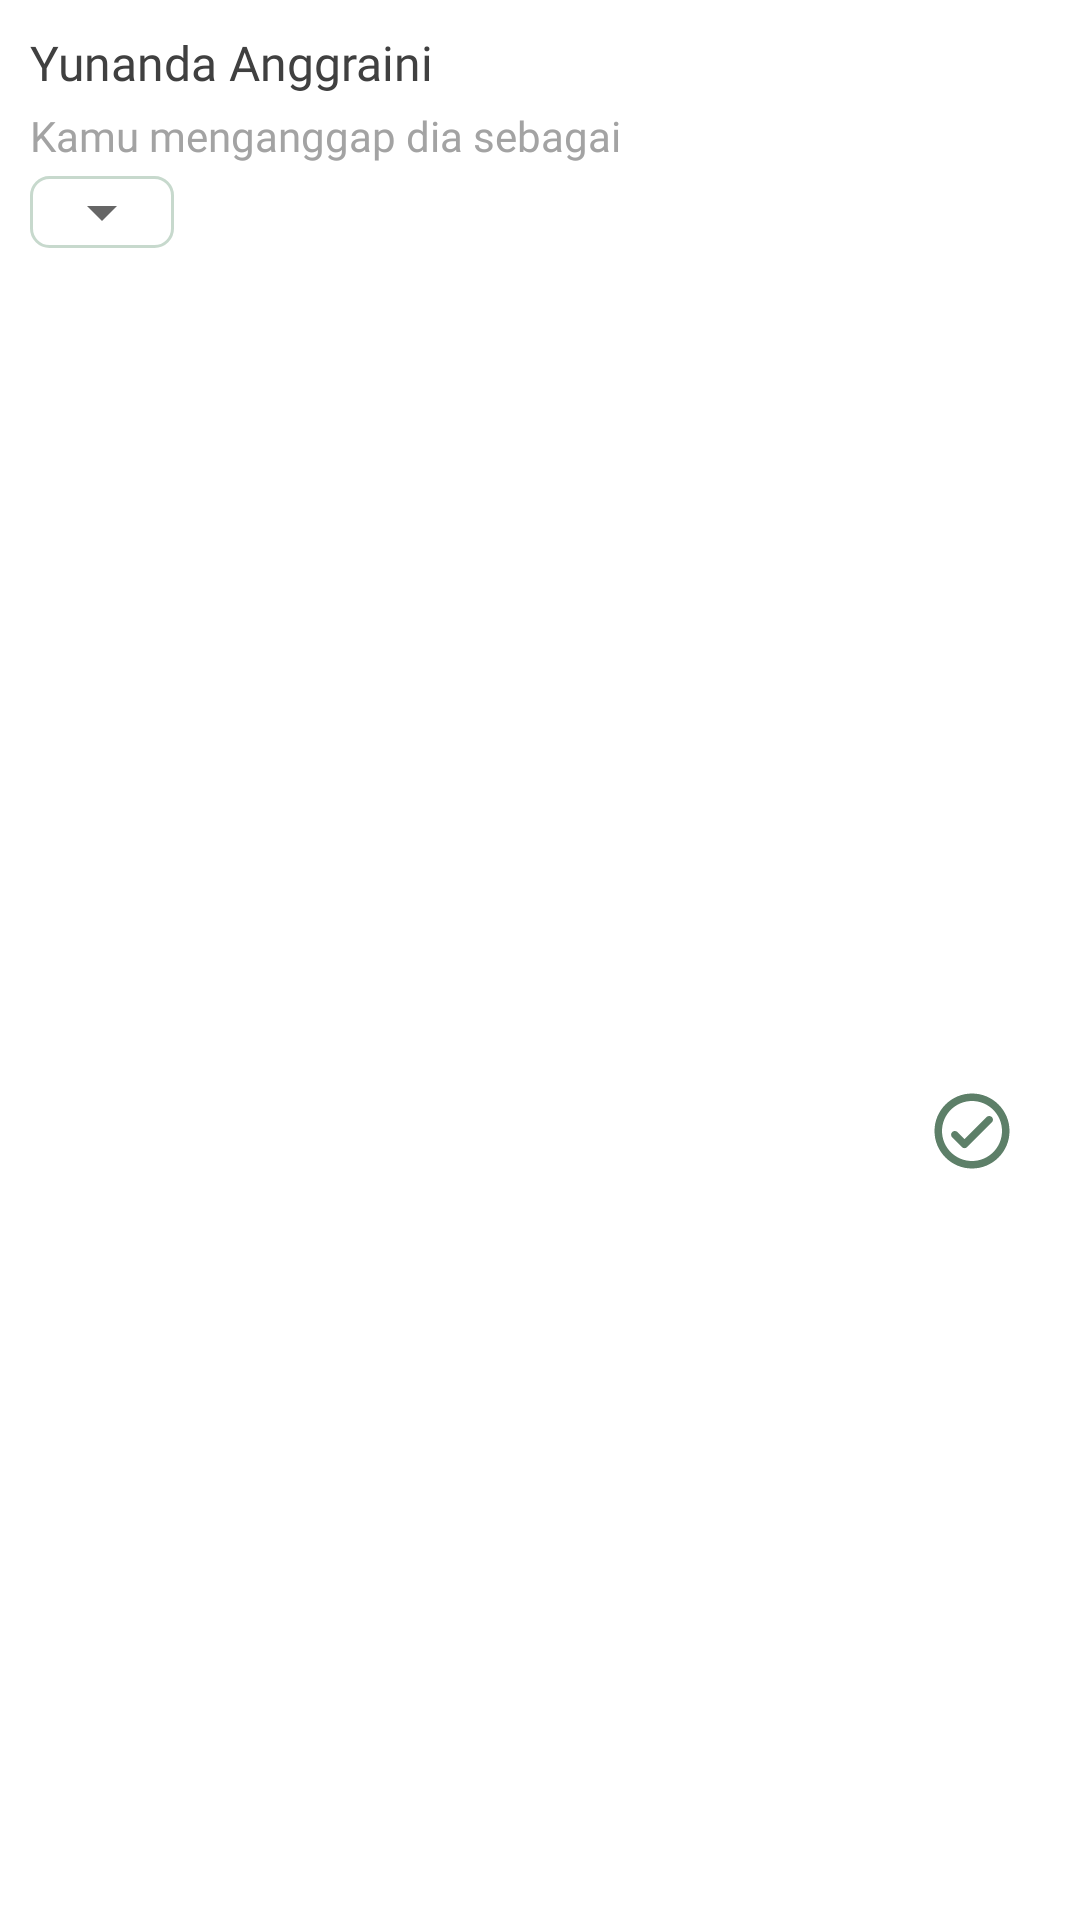

Named icons in this screenshot (1080px×1920px) and their bounding boxes, (x1, y1, x2, y2):
accept invitation: (934, 1093, 1010, 1169)
